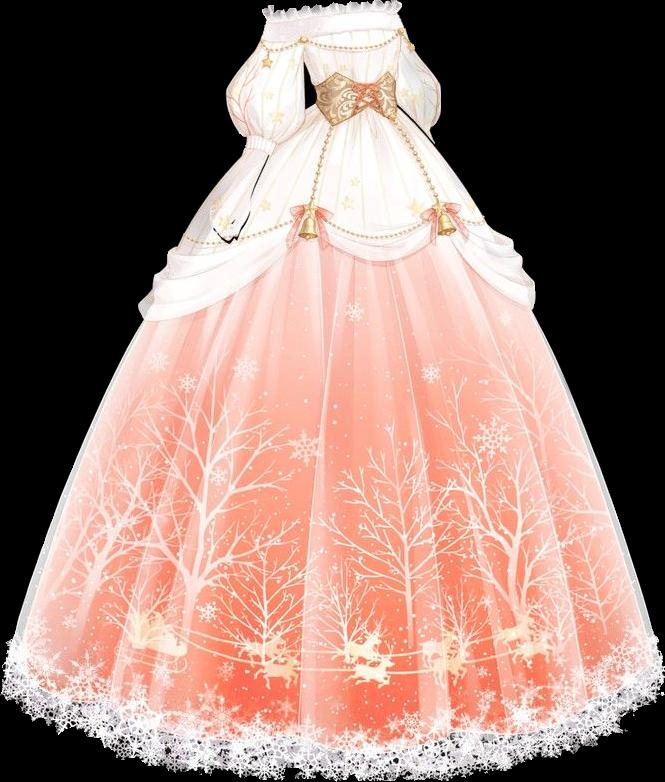Bodice: (261, 0, 404, 126)
Hemline: (0, 687, 664, 781), (139, 224, 535, 321)
Neckline: (259, 27, 404, 46), (265, 8, 398, 26), (262, 0, 401, 16)
Skirt: (2, 105, 663, 781)
Sleeve: (226, 38, 305, 158)
Sleeveline: (257, 35, 309, 54)
Waistline: (314, 100, 398, 128), (305, 29, 402, 52), (314, 71, 396, 88)
